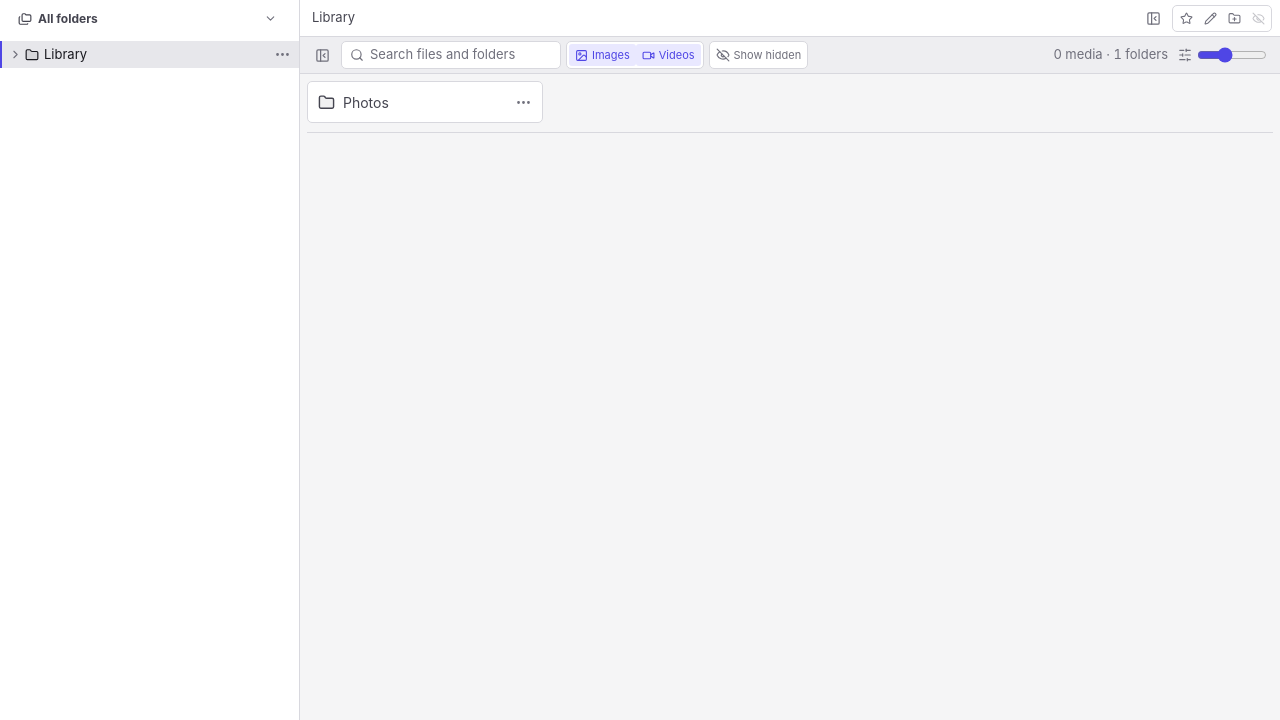
Scenario: BrowsePage requests › keeps only one folder action menu open across the gallery and sidebar
Expected: the button "Photos" is shown, top-left (308, 82), bottom-right (507, 122)
Click the button named "Folder actions for Photos" at {"x": 523, "y": 102}, box top-left (507, 86), bottom-right (539, 118)
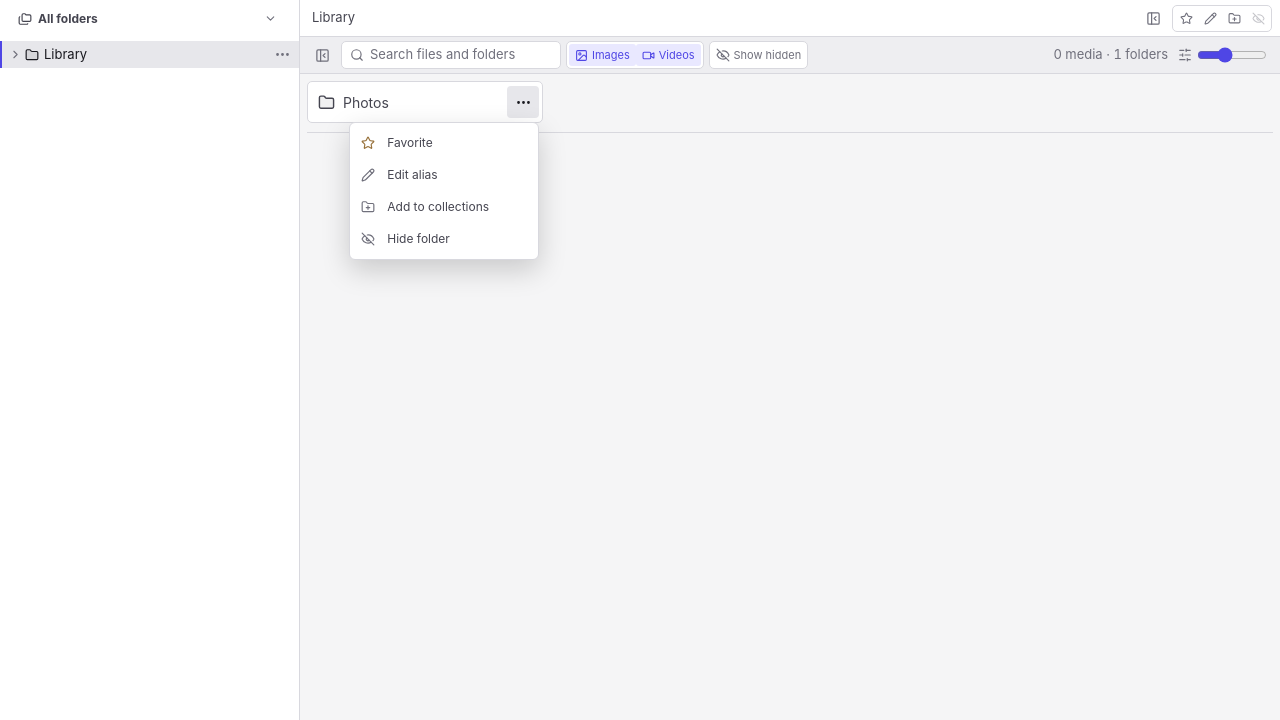
Click the button named "Folder actions for Library" at {"x": 282, "y": 54}, box top-left (270, 42), bottom-right (294, 66)
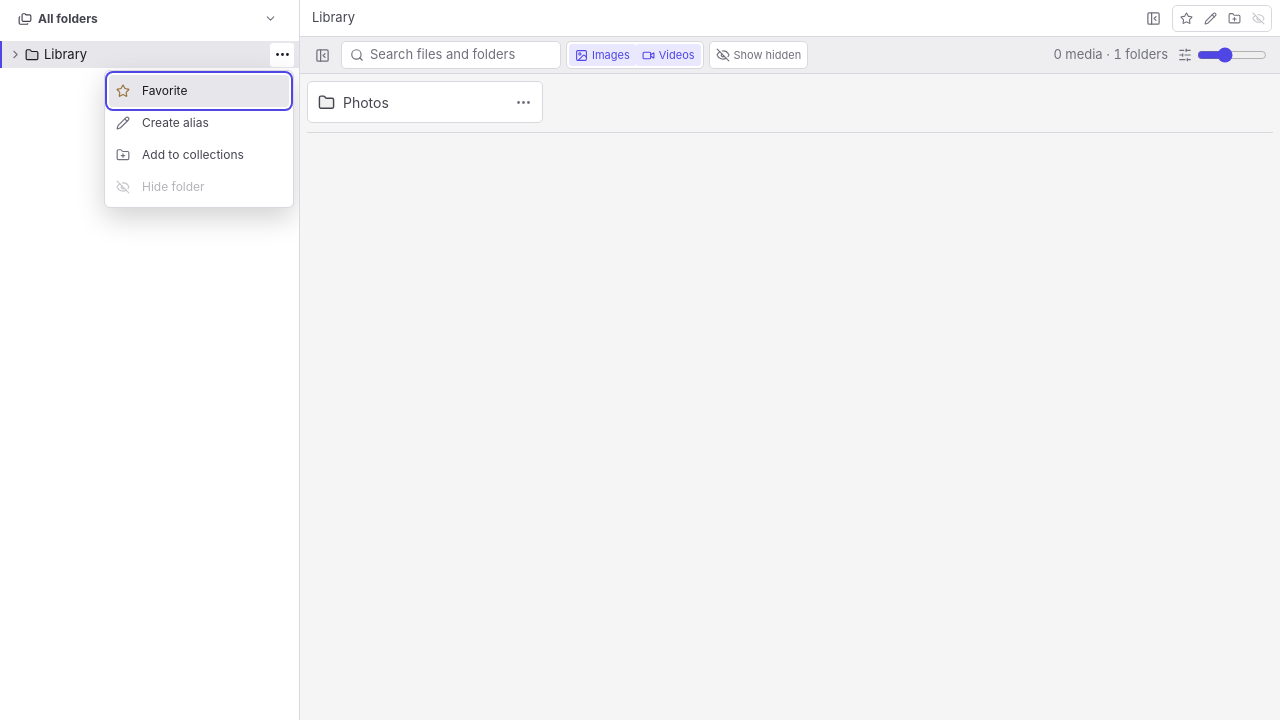
Expected: the menu named "Library actions" is shown, top-left (104, 70), bottom-right (294, 208)
